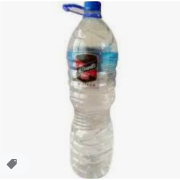Bottle: (61, 2, 116, 180)
